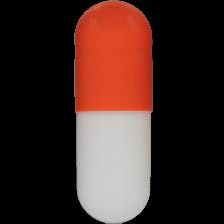0591-3636: (0, 0, 224, 224)
